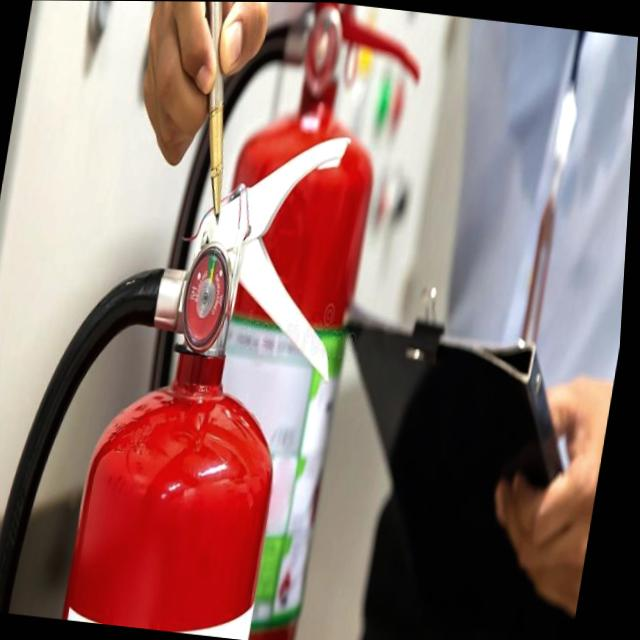FireExtinguisher: (113, 1, 433, 640), (0, 99, 375, 640)
